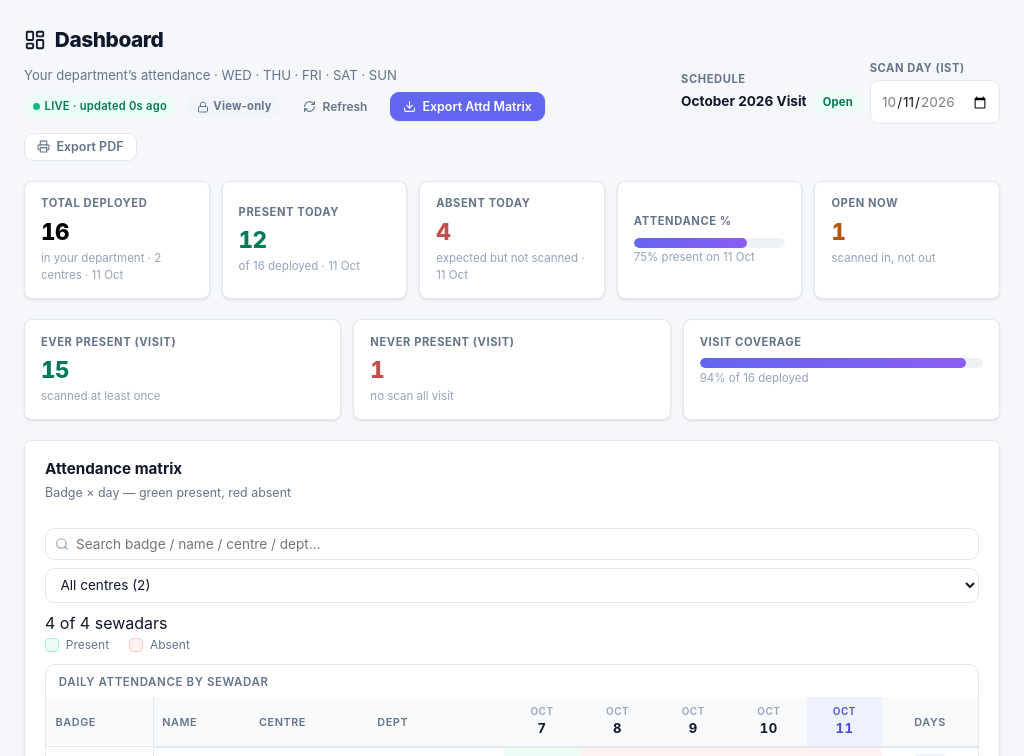
DeptInchargeDashboardPage — matrix search and centre filter › narrows the grid by badge, name, centre or dept text
The image size is (1024, 756).
Type "bina" into the field named "Search attendance matrix" at (512, 544), box [45, 528, 979, 560]
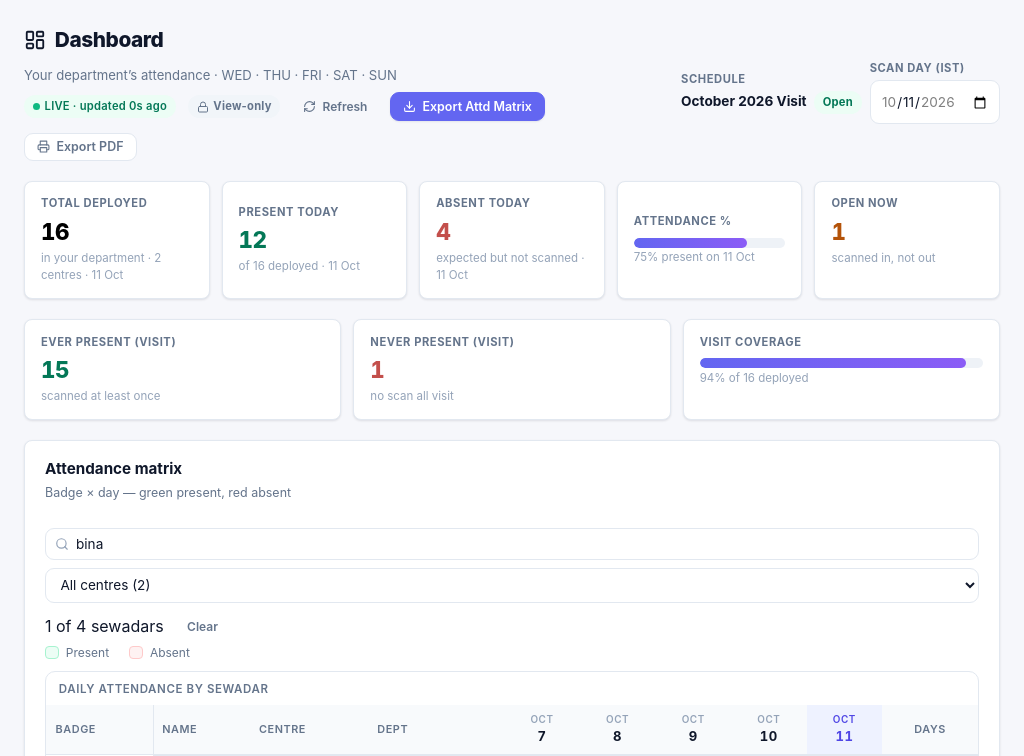
Now the text "1 of 4 sewadars" is shown, box [45, 614, 164, 638]
